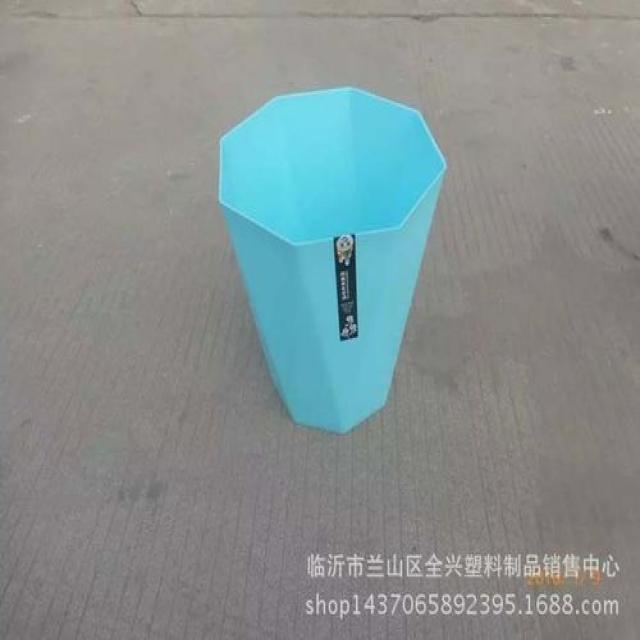dustbin: (213, 79, 451, 448)
